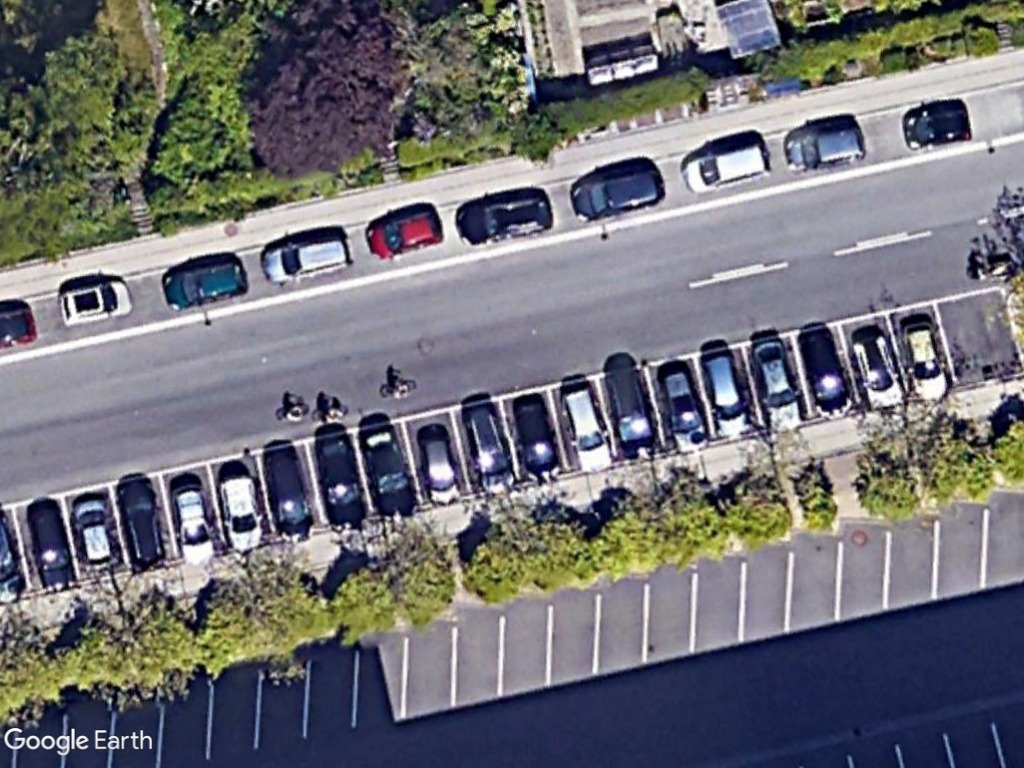car: (449, 186, 557, 252), (601, 356, 666, 465), (111, 471, 173, 578), (257, 442, 318, 549), (567, 165, 669, 228), (458, 393, 518, 500), (22, 493, 82, 599), (794, 318, 856, 420), (311, 425, 369, 533), (359, 422, 420, 524), (693, 346, 757, 441), (747, 330, 805, 433), (509, 390, 569, 489), (558, 378, 615, 479), (679, 137, 774, 197), (164, 474, 224, 569), (160, 250, 250, 313), (258, 231, 354, 287), (658, 363, 712, 461), (781, 118, 873, 175), (847, 326, 905, 414), (210, 465, 268, 553), (54, 274, 140, 333), (361, 203, 446, 262), (897, 314, 951, 405), (413, 427, 467, 510), (70, 492, 120, 576), (900, 105, 978, 155)
